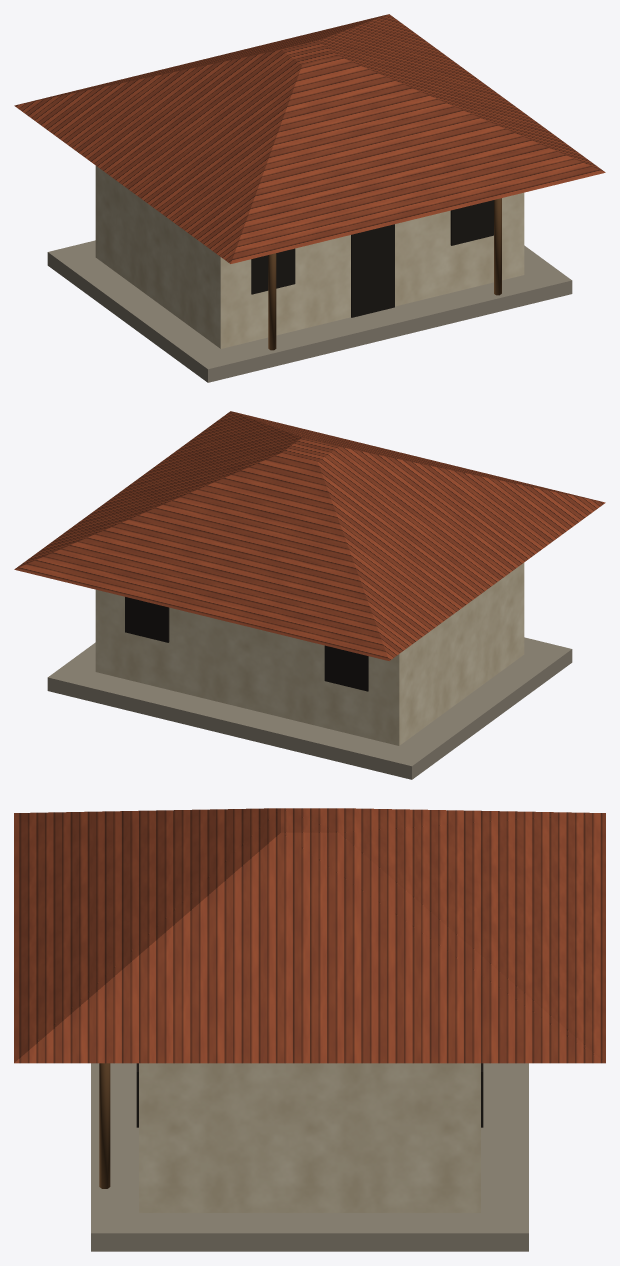
Rendered from house.fbx.
3 views of the same model, one above another, from view 1: azimuth 30°, elevation 25°; view 2: azimuth 150°, elevation 25°; view 3: azimuth 270°, elevation 25° (orthographic). The views are drawn at different scales.
Visible parts, largest first — view 1: House; view 2: House; view 3: House.
Part boxes in pixels (<box>): House: <box>14,14,605,382</box>; House: <box>14,411,605,779</box>; House: <box>14,808,605,1251</box>.
Bounding box in the file's own units: 8.65 × 5 × 8.65.
